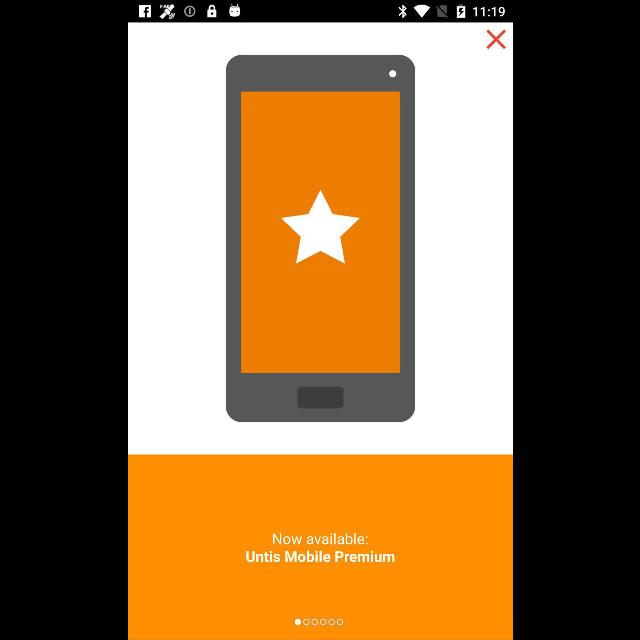icon: (484, 30, 506, 50)
image: (225, 55, 415, 423)
pageindicator: (294, 618, 342, 626)
text: (246, 533, 394, 563)
uppertaskbar: (128, 1, 512, 23)
